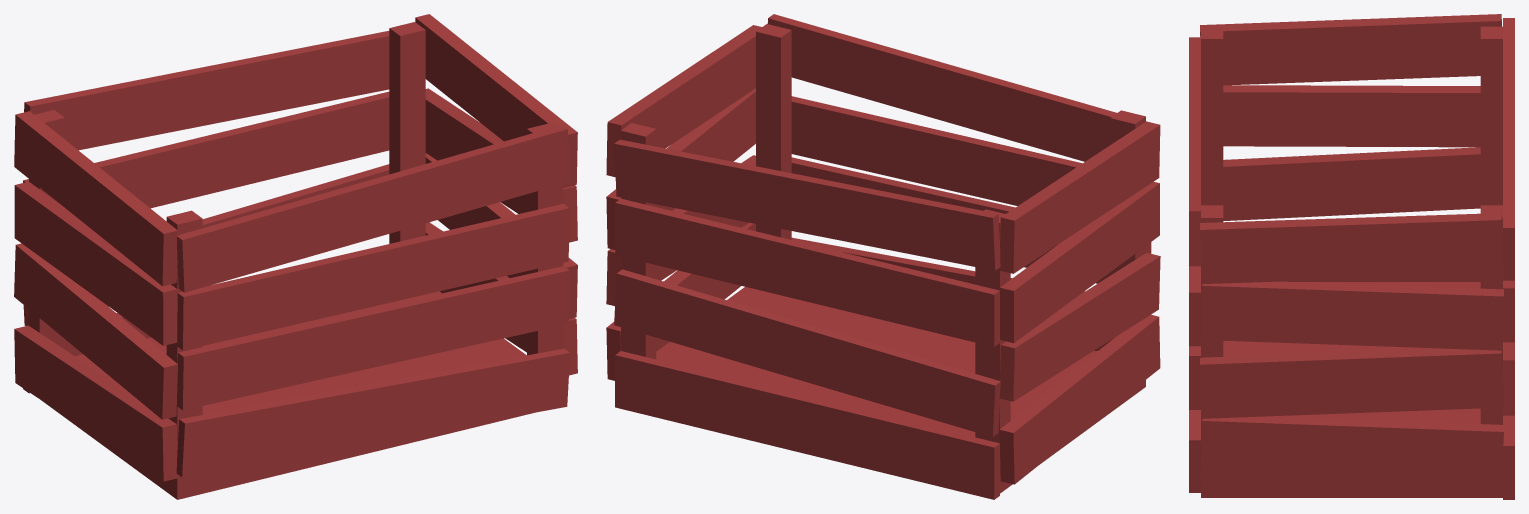
The model's file is CrateD_1.fbx.
3 views of the same model, side by side, from view 1: azimuth 30°, elevation 25°; view 2: azimuth 150°, elevation 25°; view 3: azimuth 270°, elevation 25° (orthographic). The views are drawn at different scales.
Parts seen in each view (by area): view 1: Crate4; view 2: Crate4; view 3: Crate4.
Part boxes in pixels (left/top/right/bottom): Crate4: left=14, top=14, right=577, bottom=499; Crate4: left=606, top=14, right=1160, bottom=499; Crate4: left=1189, top=14, right=1514, bottom=499.
Bounding box in the file's own units: 371 × 245 × 249.
